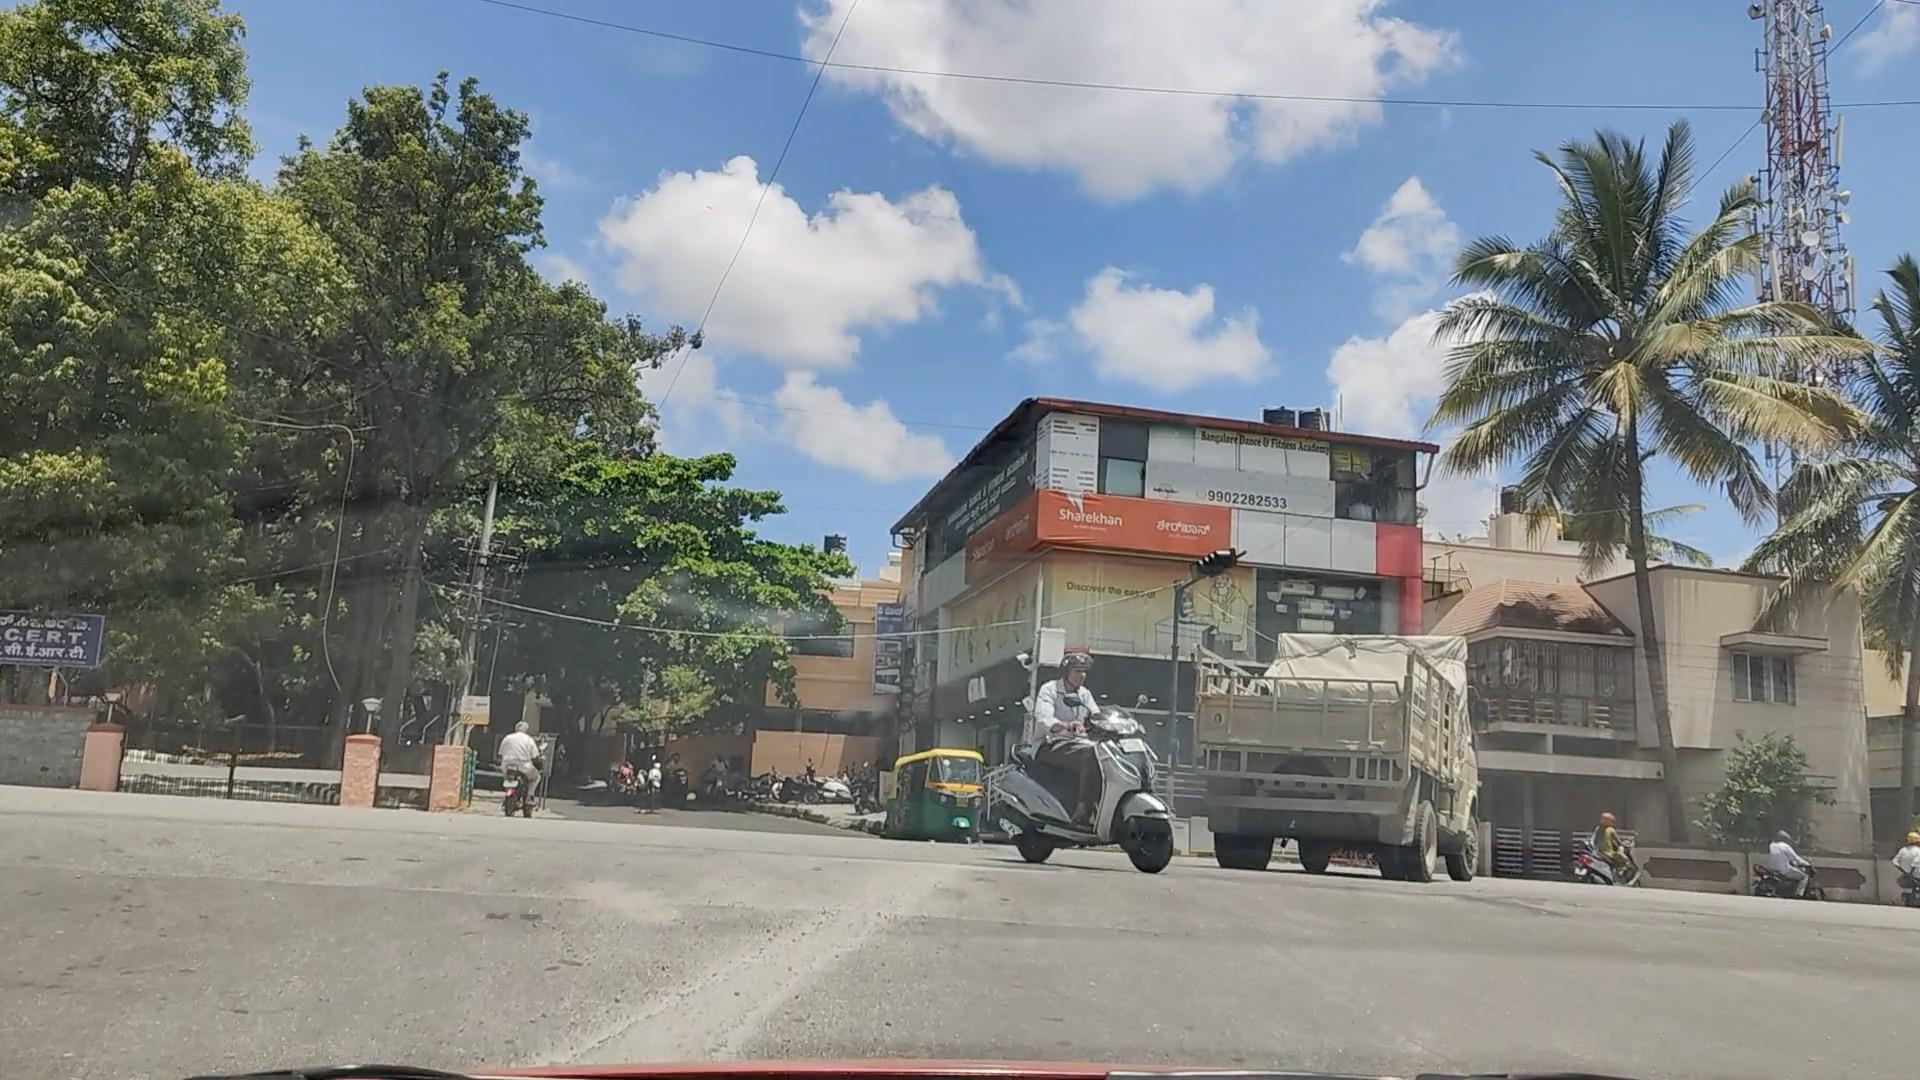HMV: (1174, 620, 1445, 857)
LMV: (990, 667, 1162, 872)
RoadDamages: (543, 916, 898, 1080)
